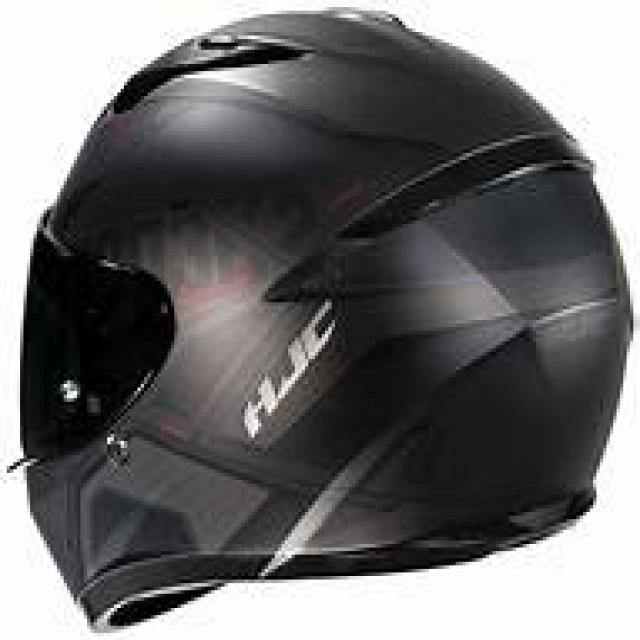helmet: (6, 5, 633, 629)
